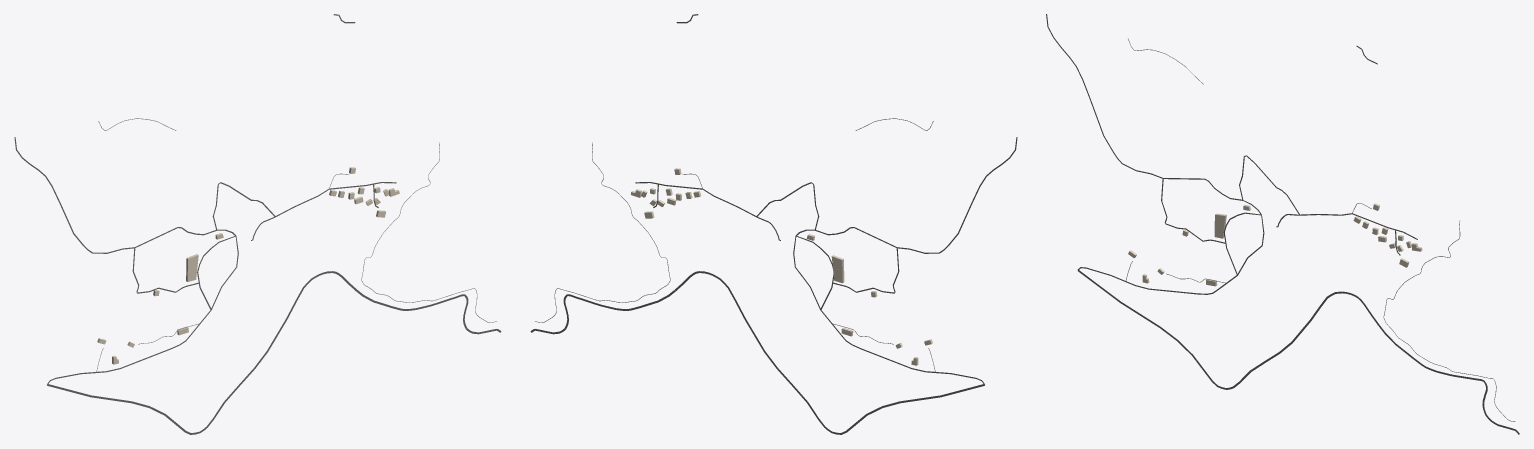
The model's file is historic-palestine-09_26_3511_3200.glb.
The picture shows the model from 3 angles, left to right: view 1: azimuth 30°, elevation 25°; view 2: azimuth 150°, elevation 25°; view 3: azimuth 330°, elevation 25°; orthographic projection. The views are drawn at different scales.
Visible parts, largest first — view 1: Road Dair Netham.002, Road Dair Netham, Road Dair Netham.001; view 2: Road Dair Netham.002, Road Dair Netham, Road Dair Netham.001; view 3: Road Dair Netham.002, Road Dair Netham, Road Dair Netham.001.
Boxes of the visible parts, bbox=[...] form: Road Dair Netham.002: bbox=[47, 271, 501, 434]; Road Dair Netham: bbox=[47, 236, 238, 384]; Road Dair Netham.001: bbox=[14, 137, 216, 253]; Road Dair Netham.002: bbox=[530, 271, 984, 434]; Road Dair Netham: bbox=[793, 235, 984, 384]; Road Dair Netham.001: bbox=[815, 137, 1017, 253]; Road Dair Netham.002: bbox=[1077, 270, 1519, 434]; Road Dair Netham: bbox=[1077, 212, 1264, 294]; Road Dair Netham.001: bbox=[1046, 14, 1242, 200].
Size of the model in its own units: 1356 by 1029 by 8.7.
